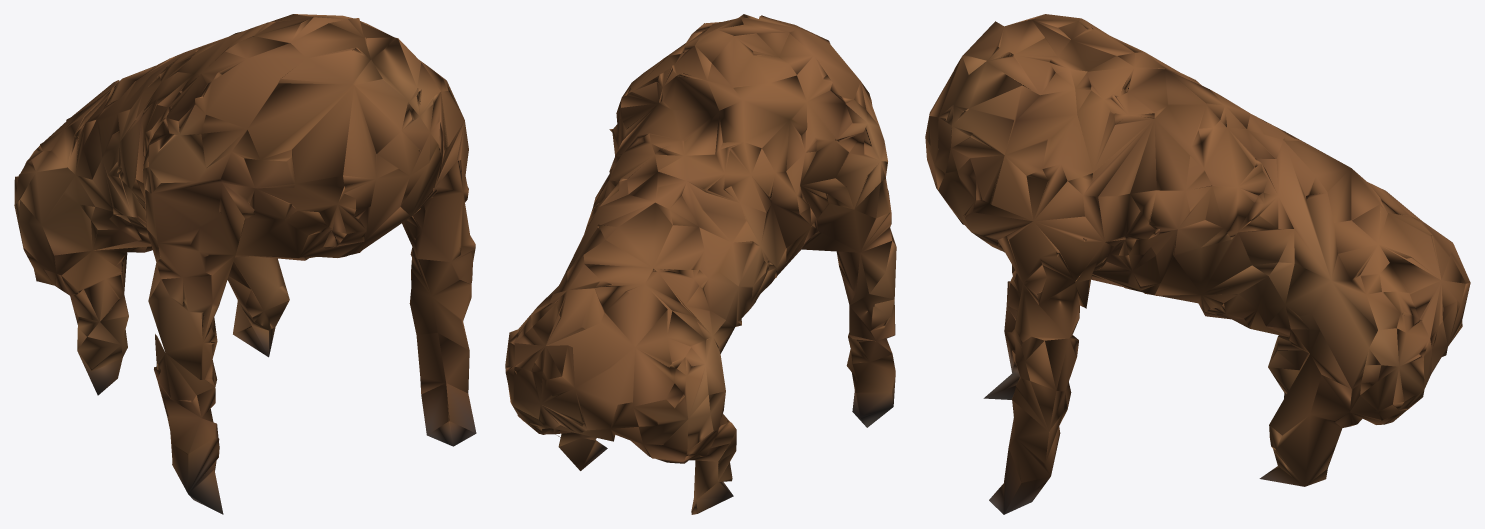
Rendered from orang.glb.
3 renders of one model, left to right at view 1: azimuth 30°, elevation 25°; view 2: azimuth 150°, elevation 25°; view 3: azimuth 270°, elevation 25°, orthographic. The views are drawn at different scales.
Parts seen in each view (by area): view 1: lack; view 2: lack; view 3: lack.
Part boxes in pixels (x1,y1,x2,y2): lack: (14, 14, 476, 514); lack: (505, 14, 896, 514); lack: (925, 14, 1470, 514).
Size of the model in its own units: 0.812 by 1.1 by 1.26.
